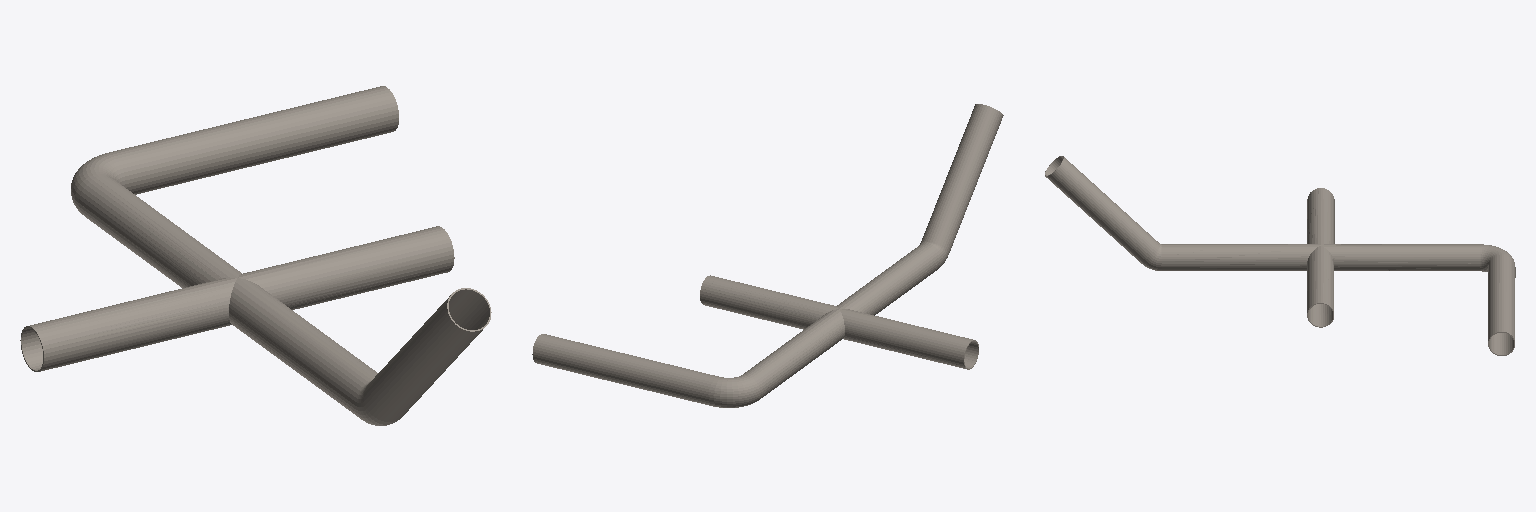
URDF robot description (tube_8.SLDPRT):
<robot
  name="tube_8.SLDPRT">
  <link
    name="tube_8">
    <inertial>
      <origin
        xyz="0.0081692 -0.023985 0.023311"
        rpy="0 0 0" />
      <mass
        value="0.75109" />
      <inertia
        ixx="0.00441097942441028"
        ixy="-0.00344923235755753"
        ixz="-0.00165240723313545"
        iyy="0.016476514650314"
        iyz="0.000149763267503729"
        izz="0.0199105285143943" />
    </inertial>
    <visual>
      <origin
        xyz="0 0 0"
        rpy="0 0 1.57" />
      <geometry>
        <mesh
          filename="package://tube_polishing/data/models/tube_8/meshes/tube_8.stl" />
      </geometry>
      <material
        name="">
        <color
          rgba="0.64706 0.61961 0.58824 1" />
      </material>
    </visual>
    <collision>
      <origin
        xyz="0 0 0"
        rpy="0 0 1.57" />
      <geometry>
        <mesh
          filename="package://tube_polishing/data/models/tube_8/meshes/tube_8.stl" />
      </geometry>
    </collision>
  </link>
</robot>

--- Render facts (derived) ---
3 views of the same robot in one strip: view 1: azimuth 30°, elevation 25°; view 2: azimuth 150°, elevation 25°; view 3: azimuth 270°, elevation 25° (orthographic).
Model tube_8.SLDPRT with 1 links and 0 joints (none), rooted at tube_8, posed every joint at zero.
Visible links, largest first — view 1: tube_8; view 2: tube_8; view 3: tube_8.
Boxes of the visible links, x1,y1,x2,y2 form: tube_8: [20, 86, 491, 425]; tube_8: [532, 104, 1003, 407]; tube_8: [1045, 156, 1515, 355].
Size in the robot's own frame: 0.3748 by 0.5193 by 0.1371 metres.
Meshes: 1 distinct files referenced, 1 mesh visuals loaded (1 binary STL).